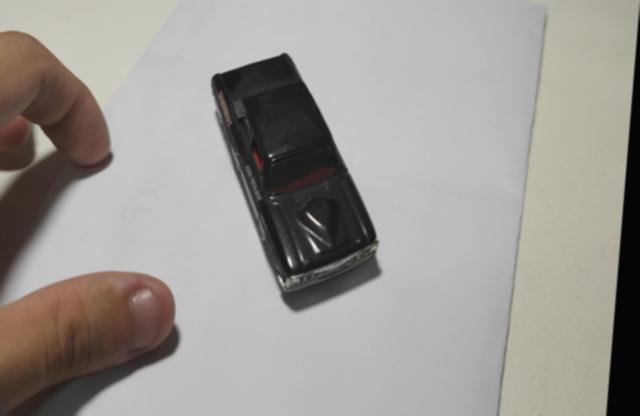01_FORD: (212, 54, 386, 308)
